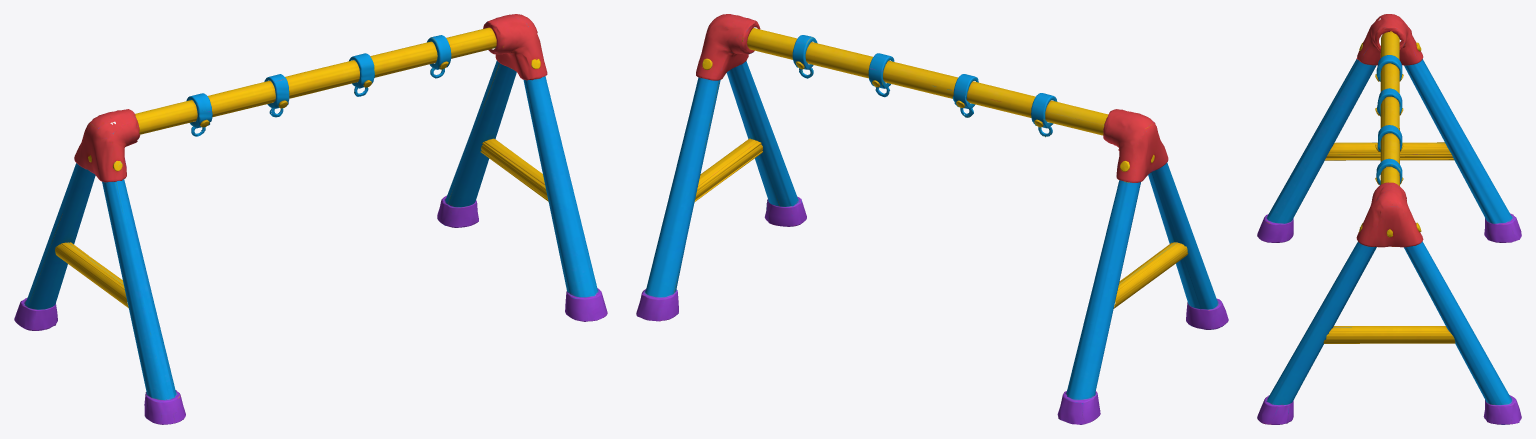
The model's file is swing_frame.glb.
3 renders of one model, left to right at view 1: azimuth 30°, elevation 25°; view 2: azimuth 150°, elevation 25°; view 3: azimuth 270°, elevation 25°, orthographic. The views are drawn at different scales.
Size of what is drawn, in the model's own units: 1.89 by 1 by 1.07.
1 material, 1 textured.
